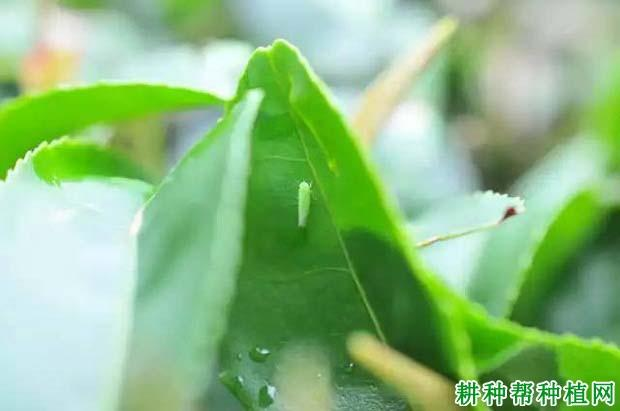Cicadellidae: (345, 330, 454, 411), (294, 179, 316, 229)
